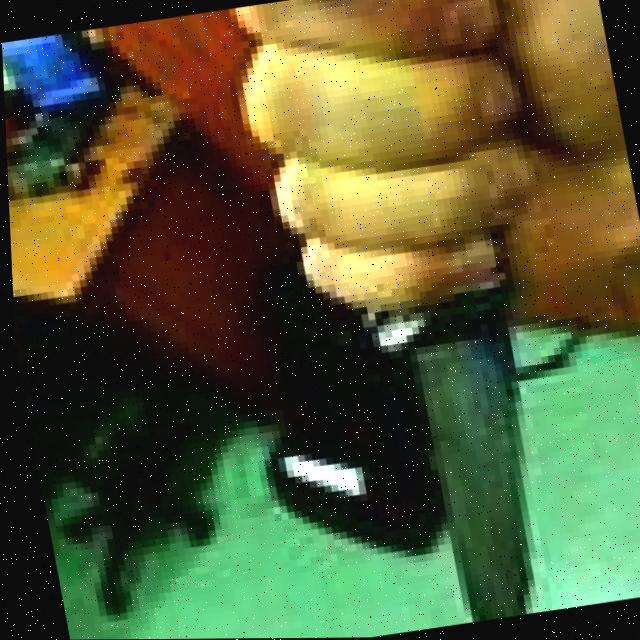knife: (383, 282, 582, 627)
